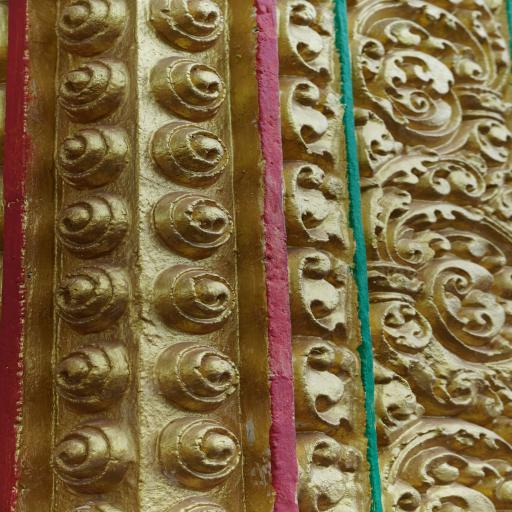hoa: (141, 414, 255, 493), (137, 329, 244, 411), (134, 115, 243, 193), (41, 262, 141, 338), (41, 336, 142, 410), (49, 414, 140, 493), (45, 124, 143, 194), (140, 259, 232, 333), (142, 187, 234, 259), (42, 187, 134, 256), (146, 55, 234, 119), (52, 58, 140, 121), (140, 0, 240, 54), (46, 0, 135, 60)
la: (353, 0, 512, 163), (375, 185, 512, 365), (381, 410, 512, 512), (278, 330, 374, 440), (264, 74, 364, 167), (276, 156, 360, 252), (278, 244, 359, 338), (283, 425, 367, 512), (278, 0, 343, 80)
